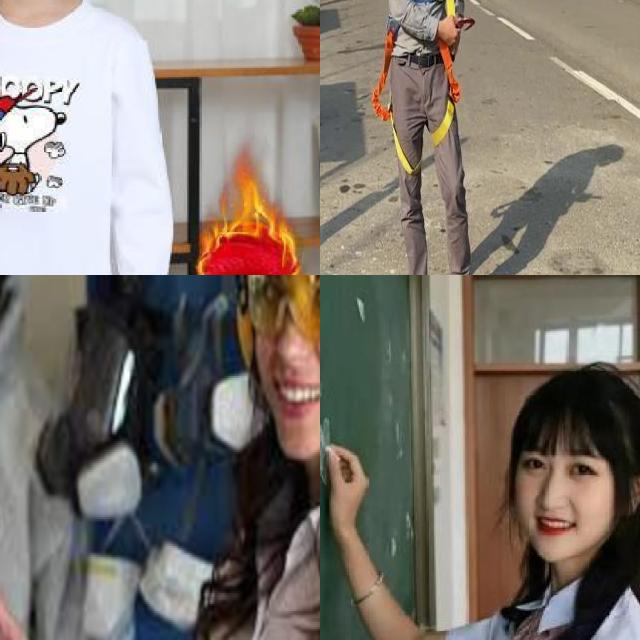Ear-protection: (227, 275, 320, 455)
Harness: (372, 23, 421, 176), (432, 40, 462, 148)
face_nomask: (500, 444, 625, 558)
hand_noglove: (322, 442, 369, 542)
head_nohelmet: (497, 366, 640, 450)
person: (320, 363, 640, 640), (0, 0, 168, 275)
